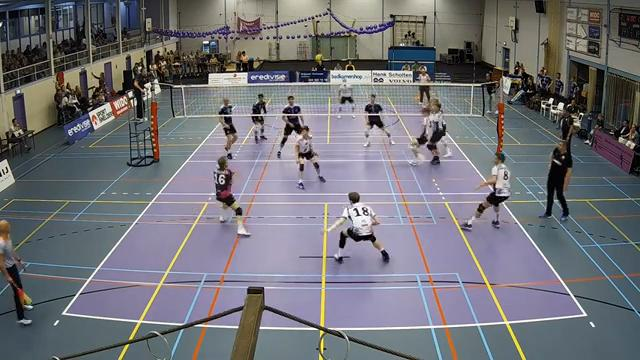difesa: (205, 152, 253, 239)
